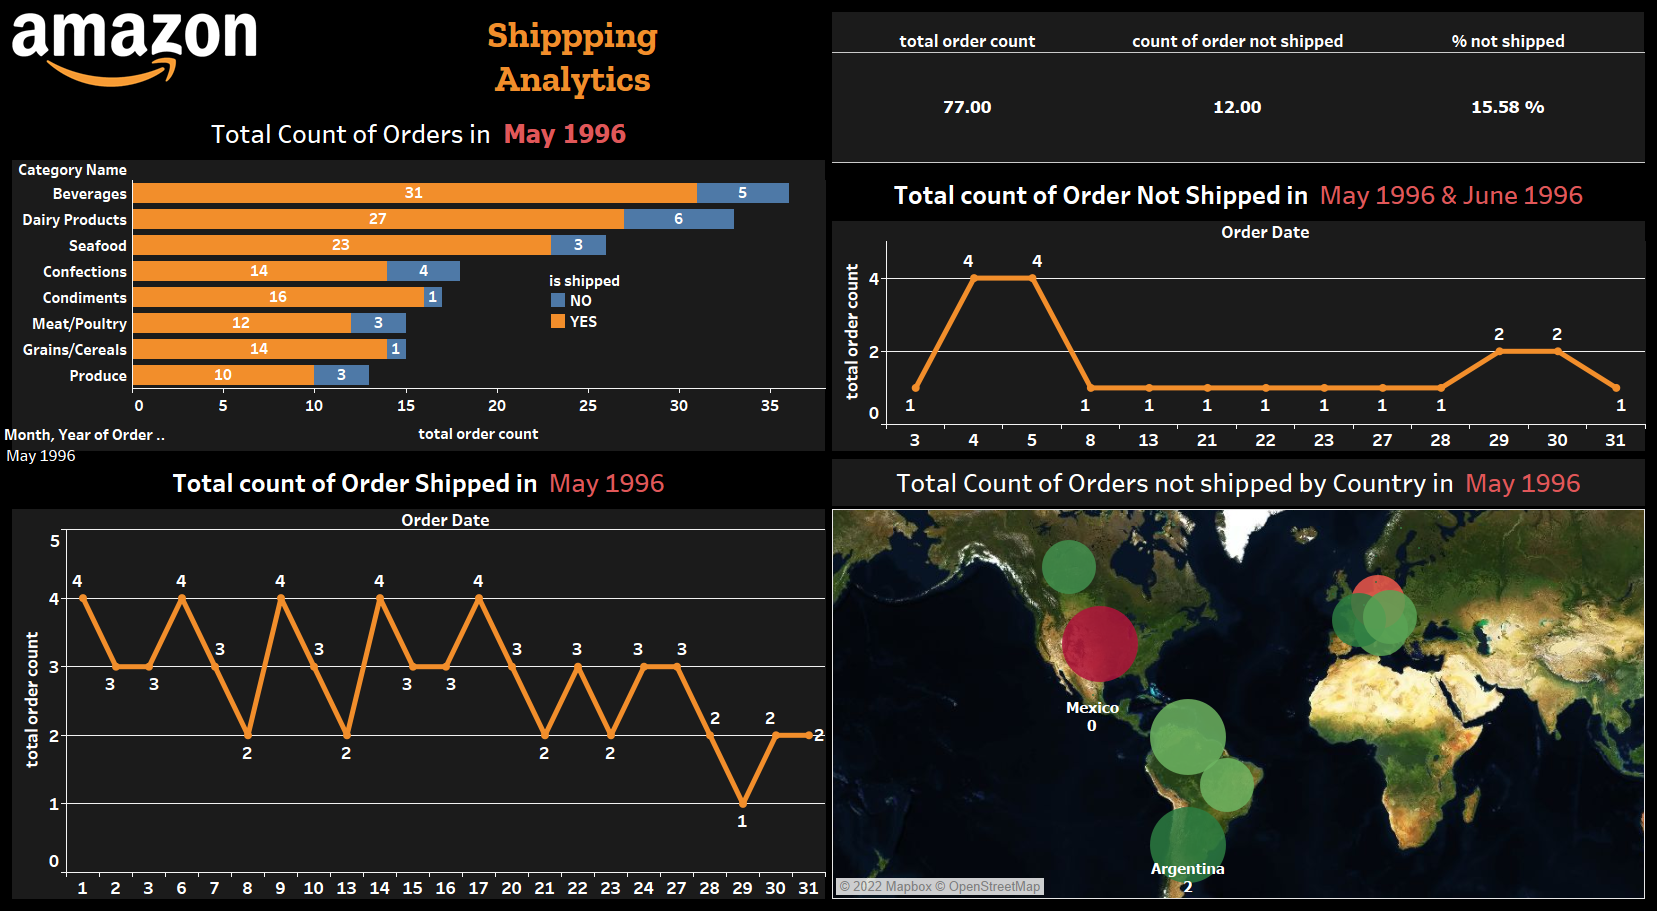

The page's visual inventory and layout, read from the dashboard file:
{"tool":"tableau","page":{"name":"Dashboard 1","canvas":[1000,1000],"units":"permille","ordinal":0},"visuals":[{"type":"image","param":"C:/Users/DELL/Pictures/Images/Amazon_Logo.png","box":[4.8,8.8,185.9,107.6]},{"type":"text","box":[190.7,8.8,309.3,107.6]},{"type":"worksheet","title":"KPI","mark":"Automatic","box":[500,8.8,495.2,174.5]},{"type":"worksheet","title":"total count","mark":"Automatic","rows":["CategoryName"],"cols":["Calculation_1284088891197554688"],"box":[4.8,116.4,495.2,383.6]},{"type":"worksheet","title":"count not shipped","mark":"Automatic","rows":["Calculation_1284088891197554688"],"cols":["OrderDate"],"box":[500,183.3,495.2,316.7]},{"type":"legend","title":"total count","param":"[federated.1wgrjjf1xkkeli16980xi1o3jhsu].[none:Calculation_1284088891198689281:n","box":[330.7,294.2,84.5,70.2]},{"type":"filter","title":"total count","param":"[federated.1wgrjjf1xkkeli16980xi1o3jhsu].[my:OrderDate:ok]","box":[2.4,464.3,101.4,67]},{"type":"worksheet","title":"count of shipped","mark":"Automatic","rows":["Calculation_1284088891197554688"],"cols":["OrderDate"],"box":[4.8,500,495.2,491.2]},{"type":"worksheet","title":"Map","mark":"Shape","box":[500,500,495.2,491.2]}]}

Visuals, with their boxes on the dashboard's canvas, which has no fixed pixel size, in thousandths of its width and height (x1, y1, x2, y2). These are canvas units, not pixel positions in the 1657x911 screenshot, which may show the page scaled, cropped or inside an application window:
image: (5,9,191,116)
text: (191,9,500,116)
"KPI" worksheet: (500,9,995,183)
"total count" worksheet: (5,116,500,500)
"count not shipped" worksheet: (500,183,995,500)
"total count" legend: (331,294,415,364)
"total count" filter: (2,464,104,531)
"count of shipped" worksheet: (5,500,500,991)
"Map" worksheet (Shape marks): (500,500,995,991)
